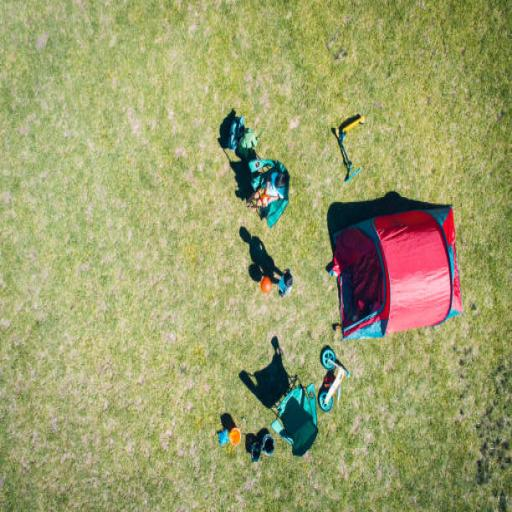Tent: (330, 204, 462, 336)
